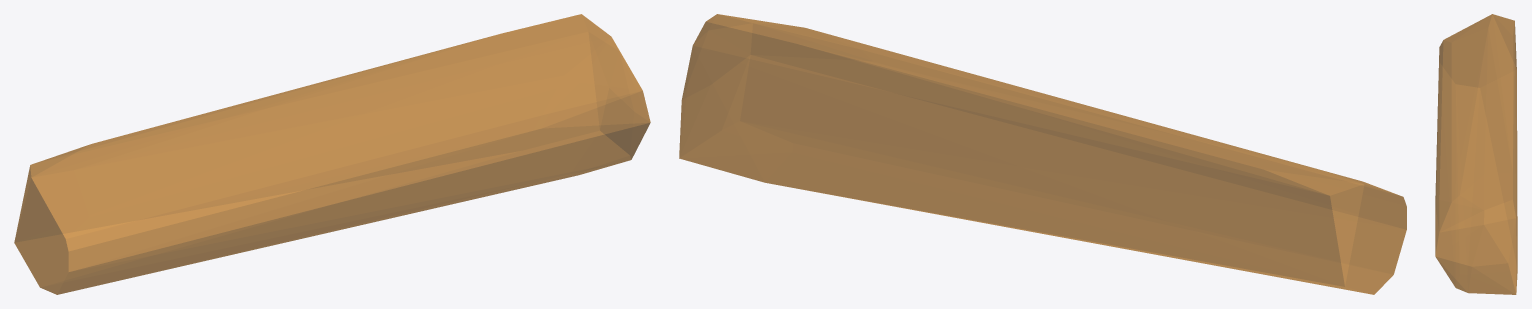
3 views of the same model, side by side, from view 1: azimuth 30°, elevation 25°; view 2: azimuth 150°, elevation 25°; view 3: azimuth 270°, elevation 25° (orthographic). The views are drawn at different scales.
Visible parts, largest first — view 1: Shape_IndexedFaceSet.011_Shape_IndexedFaceSet.18102; view 2: Shape_IndexedFaceSet.011_Shape_IndexedFaceSet.18102; view 3: Shape_IndexedFaceSet.011_Shape_IndexedFaceSet.18102.
Boxes of the visible parts, left/top/right/bottom form: Shape_IndexedFaceSet.011_Shape_IndexedFaceSet.18102: left=14, top=14, right=650, bottom=294; Shape_IndexedFaceSet.011_Shape_IndexedFaceSet.18102: left=679, top=14, right=1406, bottom=294; Shape_IndexedFaceSet.011_Shape_IndexedFaceSet.18102: left=1435, top=14, right=1517, bottom=294.
Bounding box in the file's own units: 0.6274 × 0.1296 × 0.1065.
